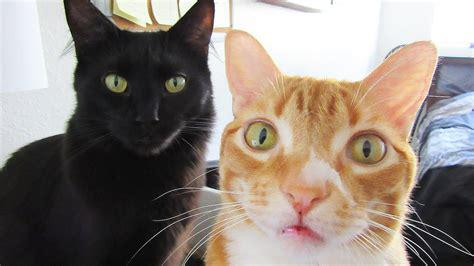cat: (1, 1, 215, 266), (204, 30, 438, 266)
